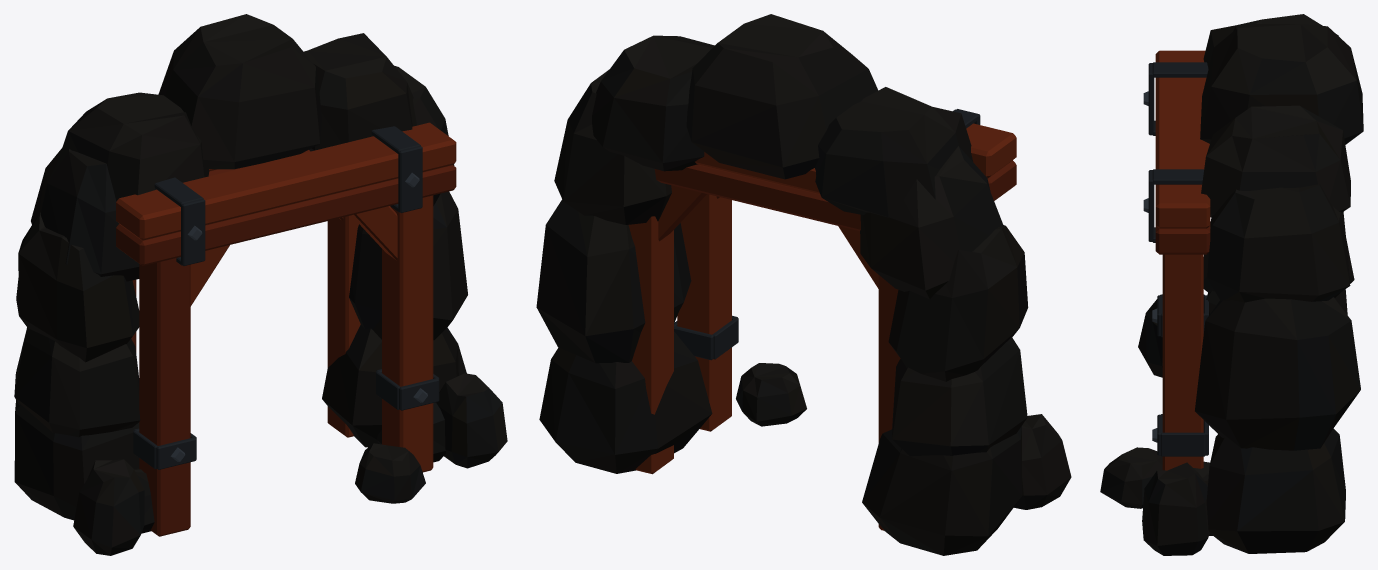
The model's file is Mine Entrance Wooden Portal.obj.
3 renders of one model, left to right at view 1: azimuth 30°, elevation 25°; view 2: azimuth 150°, elevation 25°; view 3: azimuth 270°, elevation 25°, orthographic. The views are drawn at different scales.
Parts seen in each view (by area): view 1: Mine_Entrance_Wooden_Portal.Static; view 2: Mine_Entrance_Wooden_Portal.Static; view 3: Mine_Entrance_Wooden_Portal.Static.
Boxes of the visible parts, left/top/right/bottom form: Mine_Entrance_Wooden_Portal.Static: left=14, top=14, right=507, bottom=555; Mine_Entrance_Wooden_Portal.Static: left=536, top=14, right=1071, bottom=555; Mine_Entrance_Wooden_Portal.Static: left=1100, top=14, right=1363, bottom=555.
Bounding box in the file's own units: 3.7 × 3.54 × 1.98.
